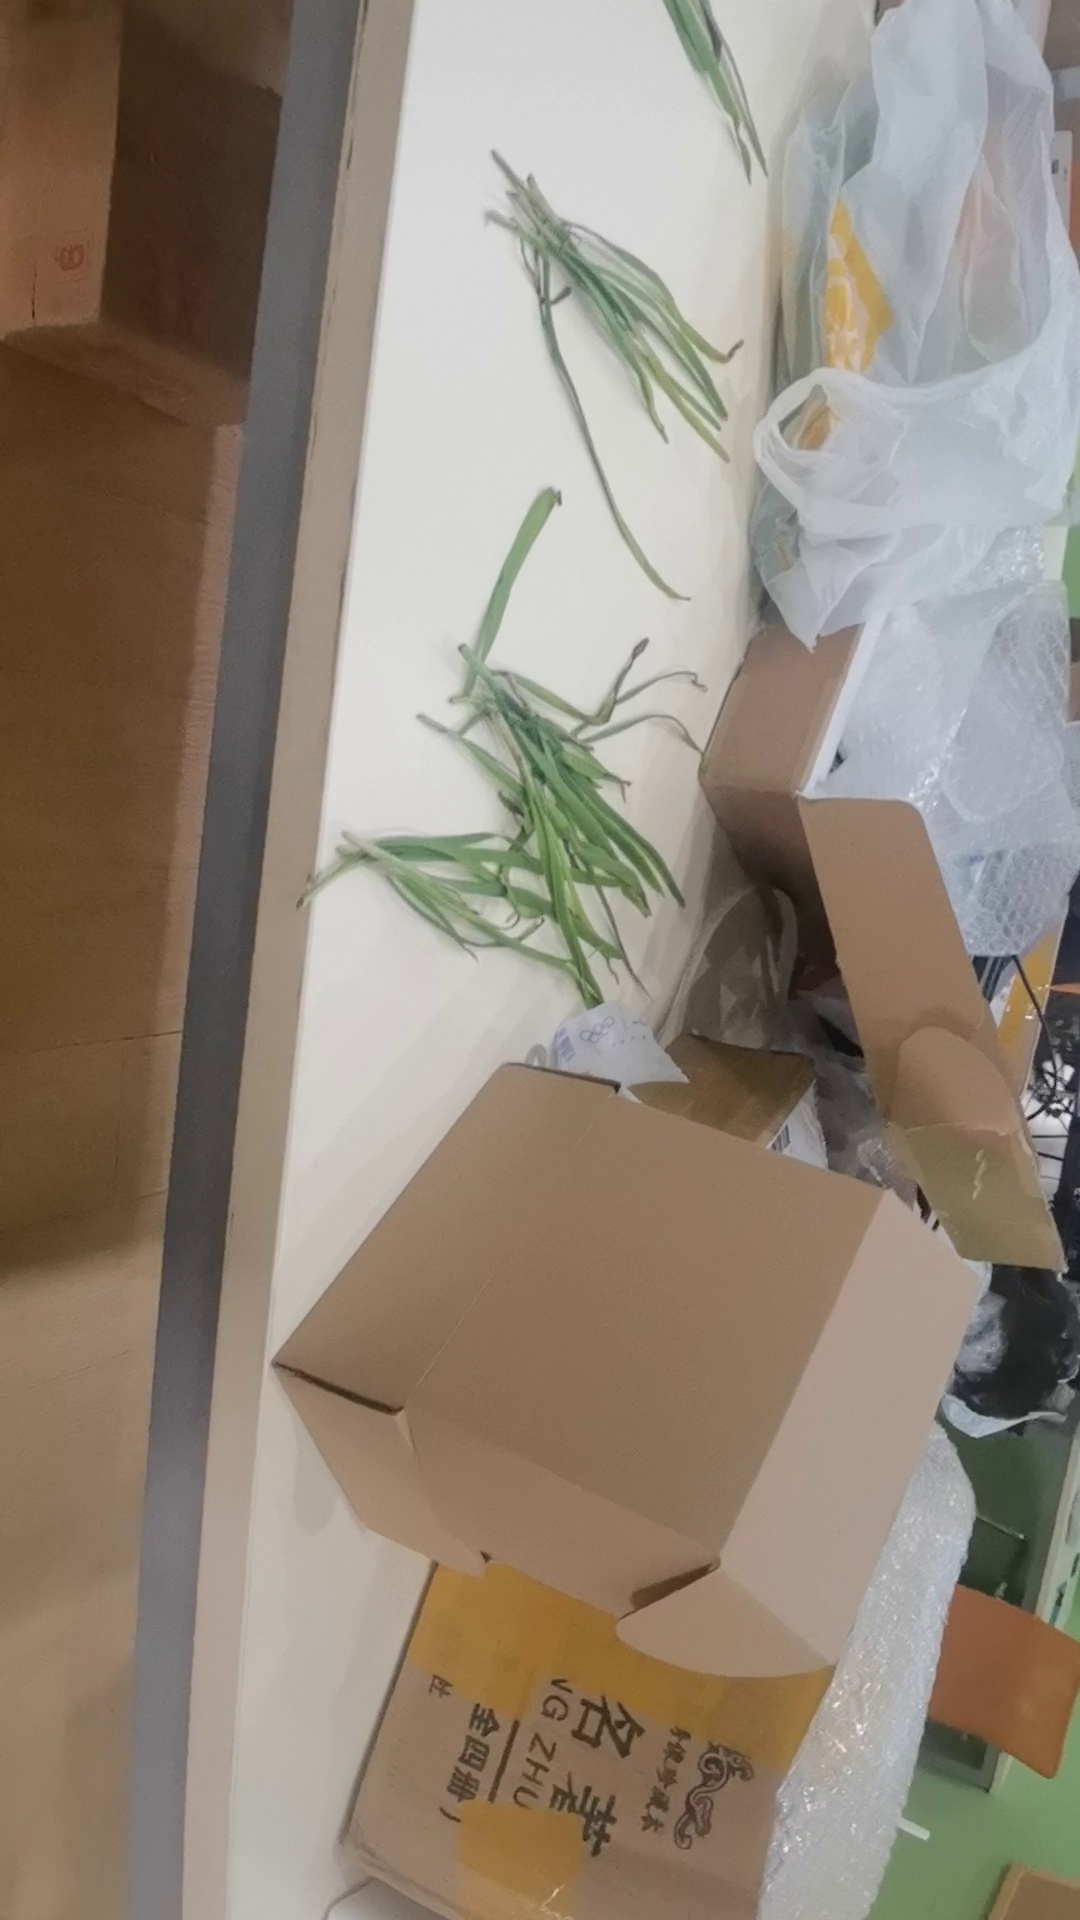chives: (284, 574, 760, 1007), (377, 162, 773, 609), (516, 1, 810, 171)
